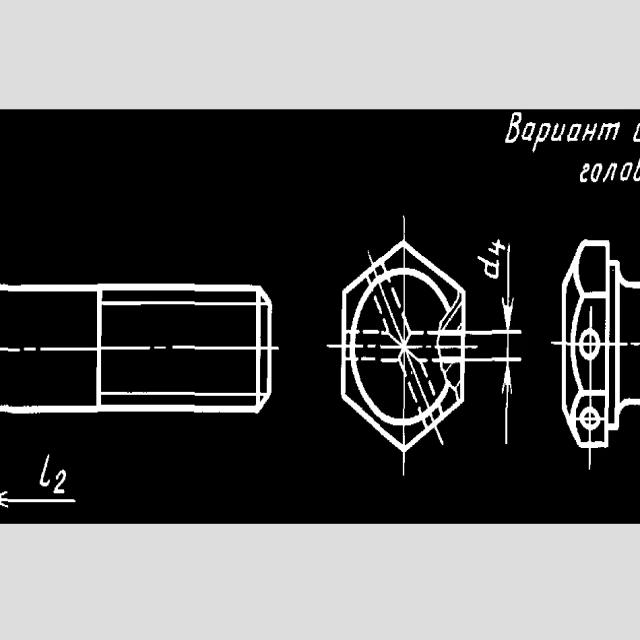marking_line: (467, 244, 520, 446), (0, 489, 75, 509)
numeric: (479, 255, 501, 281), (506, 112, 523, 143), (532, 123, 552, 149), (52, 470, 70, 497), (40, 453, 53, 488), (598, 121, 622, 139), (566, 123, 583, 143), (619, 161, 634, 181), (550, 123, 565, 142), (603, 162, 618, 181), (582, 123, 597, 142), (590, 162, 603, 183), (490, 237, 505, 255), (521, 123, 534, 141), (580, 163, 590, 183), (633, 157, 640, 184), (633, 120, 640, 144)
